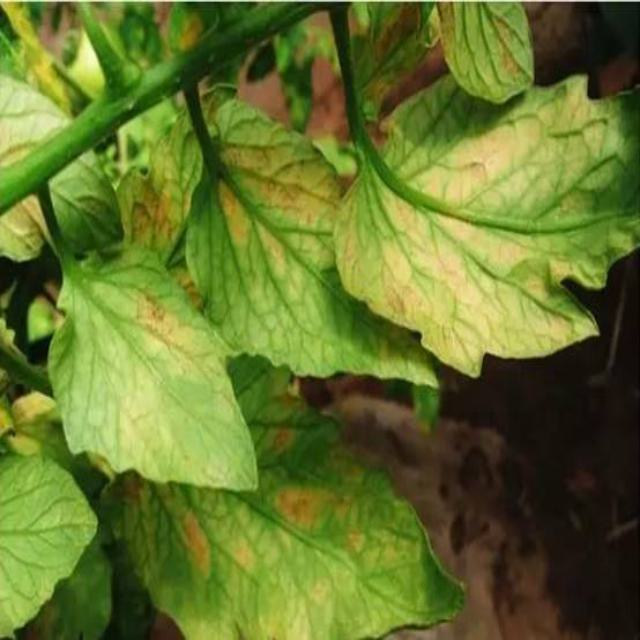Leaf_Mold: (346, 88, 633, 377), (203, 134, 342, 276), (266, 475, 370, 556), (131, 291, 209, 387), (125, 175, 190, 256), (173, 509, 216, 586), (367, 1, 415, 67), (485, 7, 527, 82), (259, 419, 300, 463), (437, 2, 457, 68), (228, 542, 255, 570)
